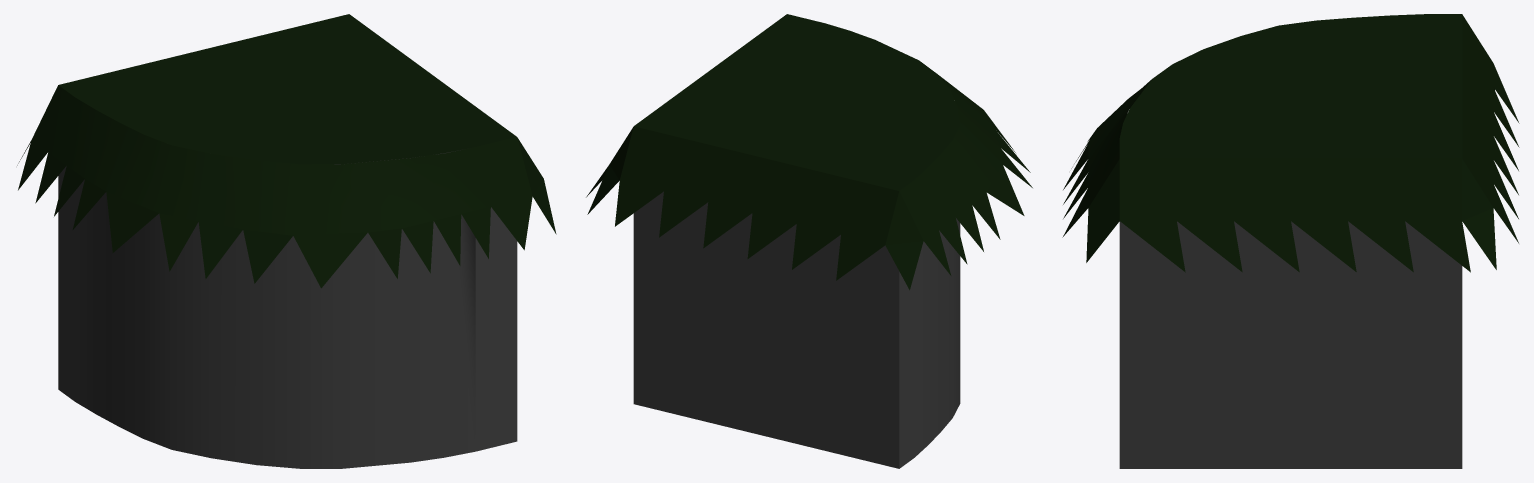
The model's file is Tile_Corner_Stone.fbx.
3 renders of one model, left to right at view 1: azimuth 30°, elevation 25°; view 2: azimuth 150°, elevation 25°; view 3: azimuth 270°, elevation 25°, orthographic. The views are drawn at different scales.
Parts seen in each view (by area): view 1: blockCornerSmall; view 2: blockCornerSmall; view 3: blockCornerSmall.
Part boxes in pixels (x1=…): blockCornerSmall: x1=17, y1=14, x2=556, y2=468; blockCornerSmall: x1=586, y1=14, x2=1032, y2=468; blockCornerSmall: x1=1062, y1=14, x2=1519, y2=468.
Bounding box in the file's own units: 52.58 × 52.58 × 39.37.
